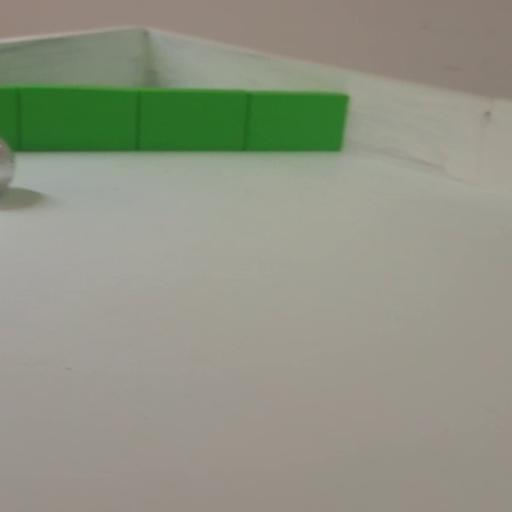alive: (0, 135, 16, 195)
